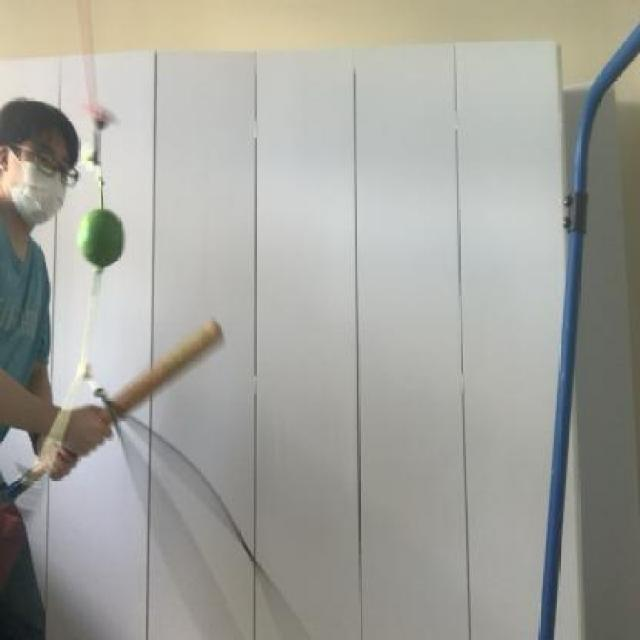baseball: (72, 197, 136, 286)
